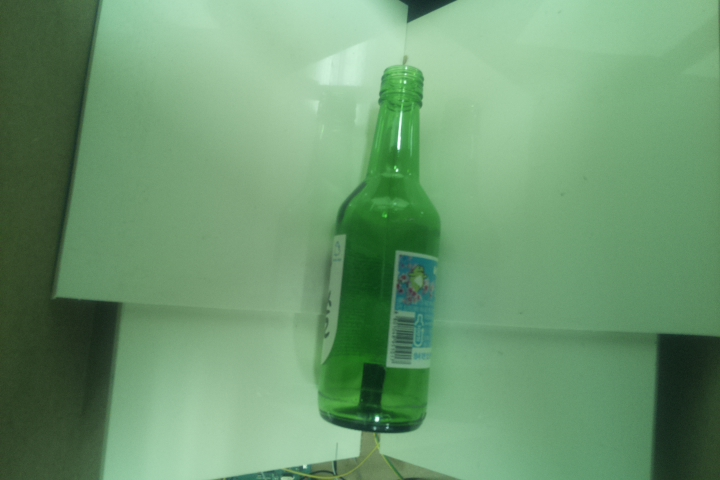soju: (315, 64, 444, 435)
